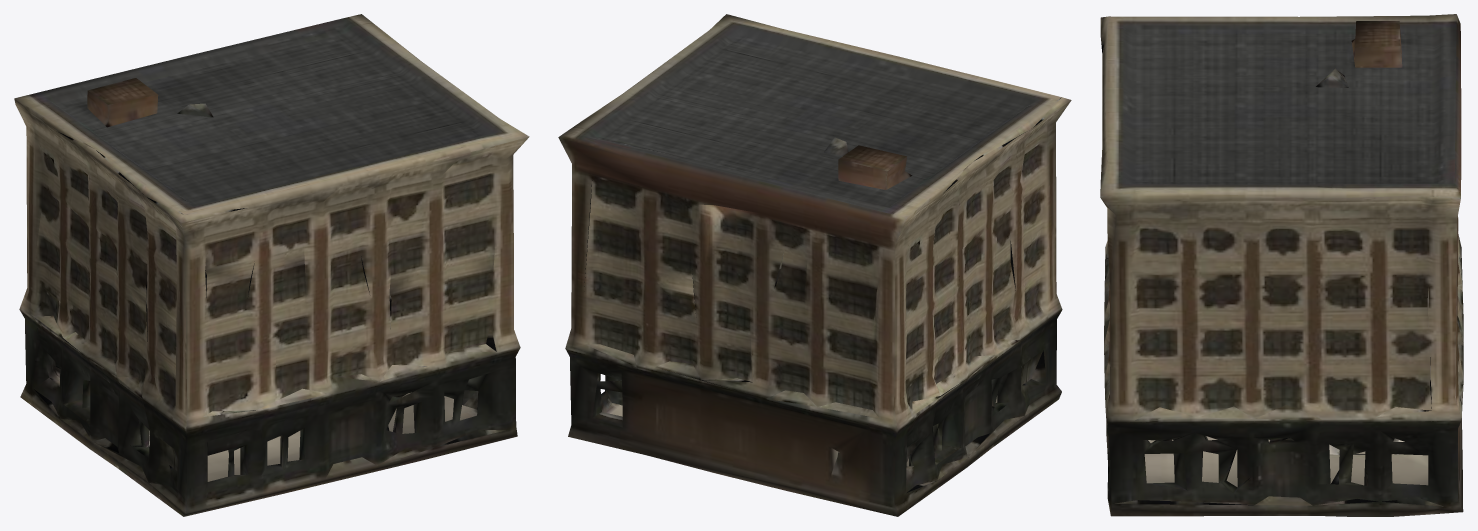
Rendered from gen_low2_loft.glb.
The picture shows the model from 3 angles, left to right: view 1: azimuth 30°, elevation 25°; view 2: azimuth 150°, elevation 25°; view 3: azimuth 270°, elevation 25°; orthographic projection. The views are drawn at different scales.
Parts seen in each view (by area): view 1: gen_low2_loft; view 2: gen_low2_loft; view 3: gen_low2_loft.
Boxes of the visible parts, box(x1,y1,x2,y2) form: gen_low2_loft: box(14, 14, 529, 516); gen_low2_loft: box(558, 14, 1071, 516); gen_low2_loft: box(1100, 14, 1463, 516).
Size of the model in its own units: 25 by 22 by 21.07.
1 material, 1 textured.
